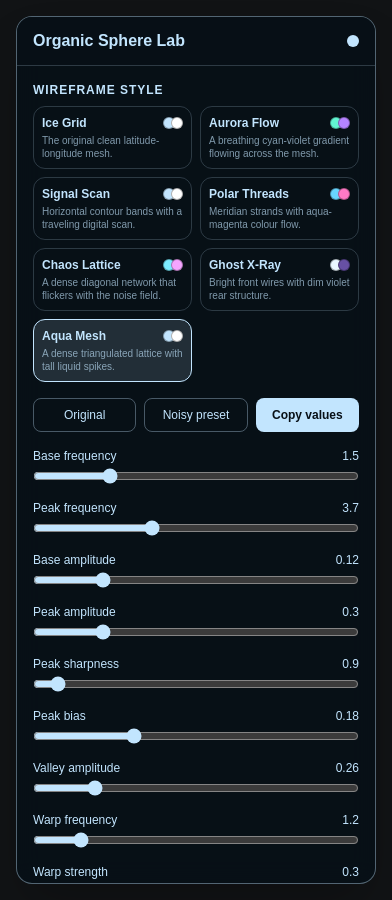
it: OrganicSphereDevPanel › copies the complete current settings as JSON
Click the button "Copy values": {"x": 307, "y": 415} [256,398,359,432]
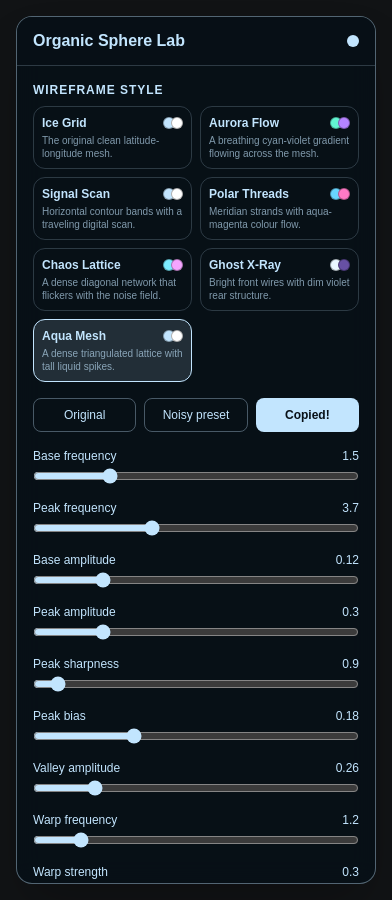
Now the button "Copied!" is shown, box [256,398,359,432]
